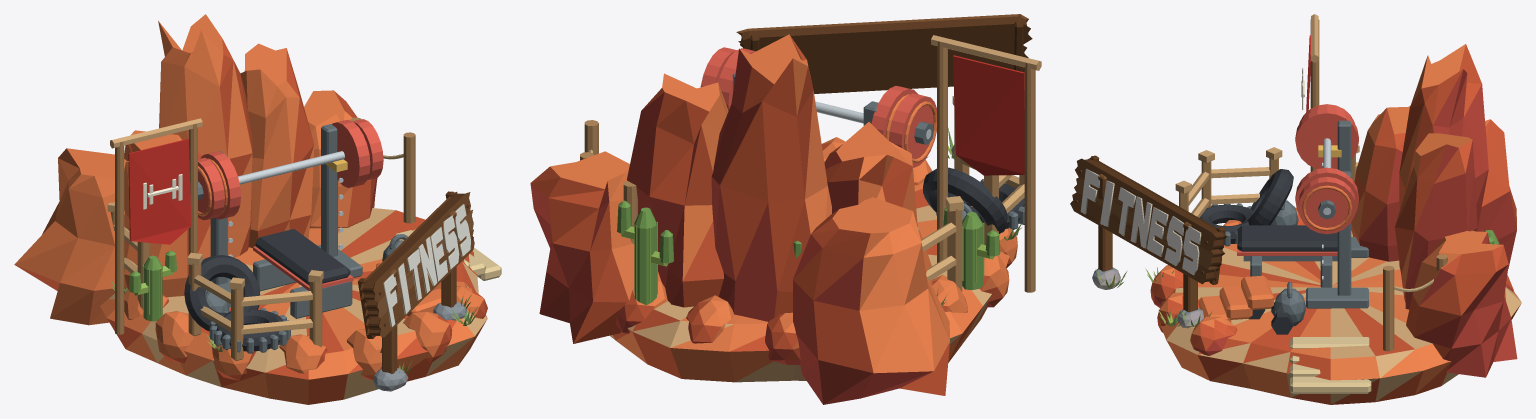
Rendered from fitness.glb.
3 renders of one model, left to right at view 1: azimuth 30°, elevation 25°; view 2: azimuth 150°, elevation 25°; view 3: azimuth 270°, elevation 25°, orthographic. The views are drawn at different scales.
Parts seen in each view (by area): view 1: Fitness color-batched geometry; view 2: Fitness color-batched geometry; view 3: Fitness color-batched geometry.
Part boxes in pixels (x1=…): Fitness color-batched geometry: x1=14, y1=14, x2=501, y2=404; Fitness color-batched geometry: x1=530, y1=14, x2=1041, y2=404; Fitness color-batched geometry: x1=1070, y1=14, x2=1521, y2=404.
Bounding box in the file's own units: 6.04 × 4.13 × 6.56.
